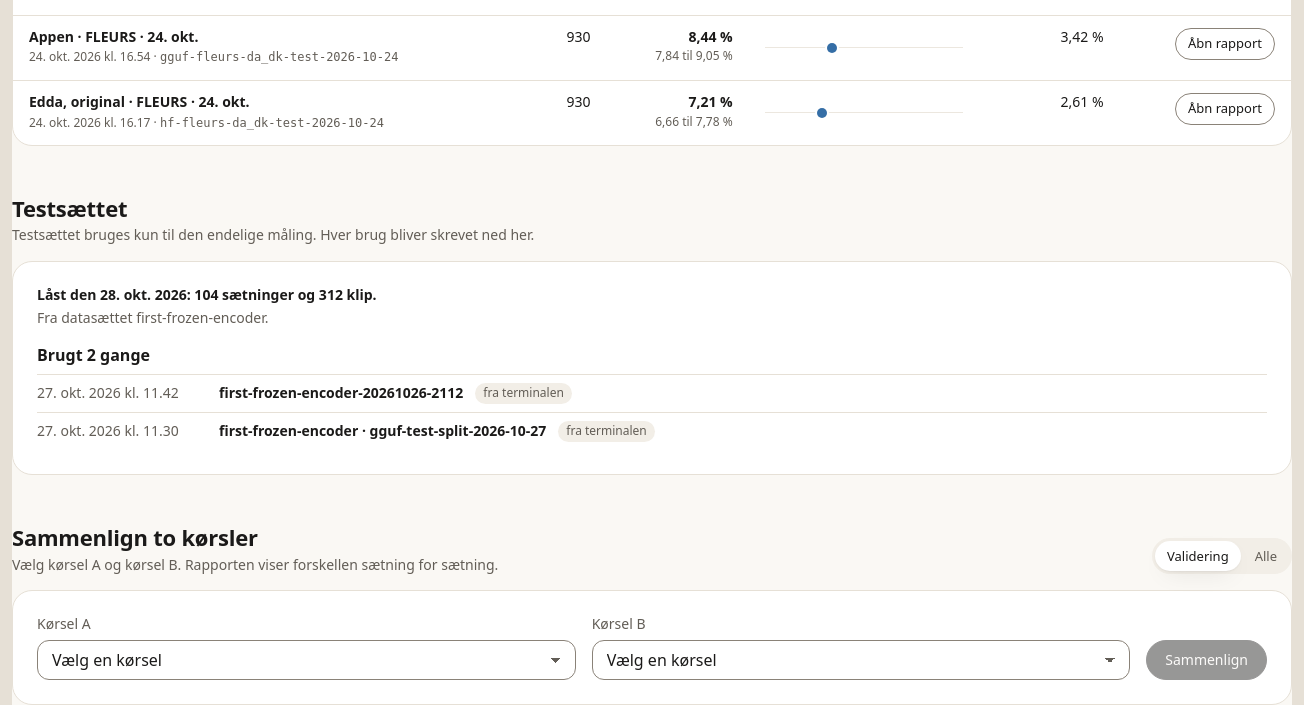
Test: the evaluations › warns when A and B were counted by different normalisers
The width and height of the screenshot is (1304, 705).
(page scrolled)
Step 1. Click the radio button labelled "Alle" → (1266, 556), box [1243,542,1289,572]
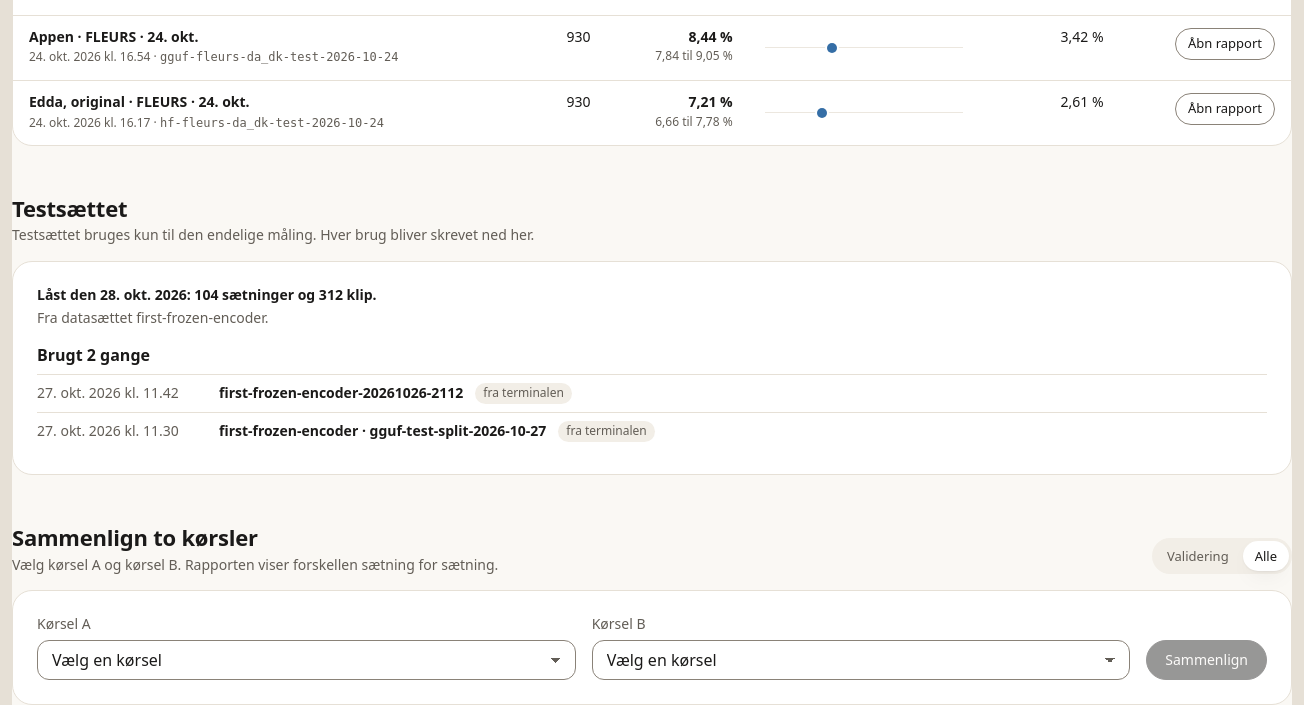
Step 2. Select "Appen · FLEURS · 26. okt. (6,7 %)" in the dropdown labelled "Kørsel A" → (306, 660), box [37,640,576,680]
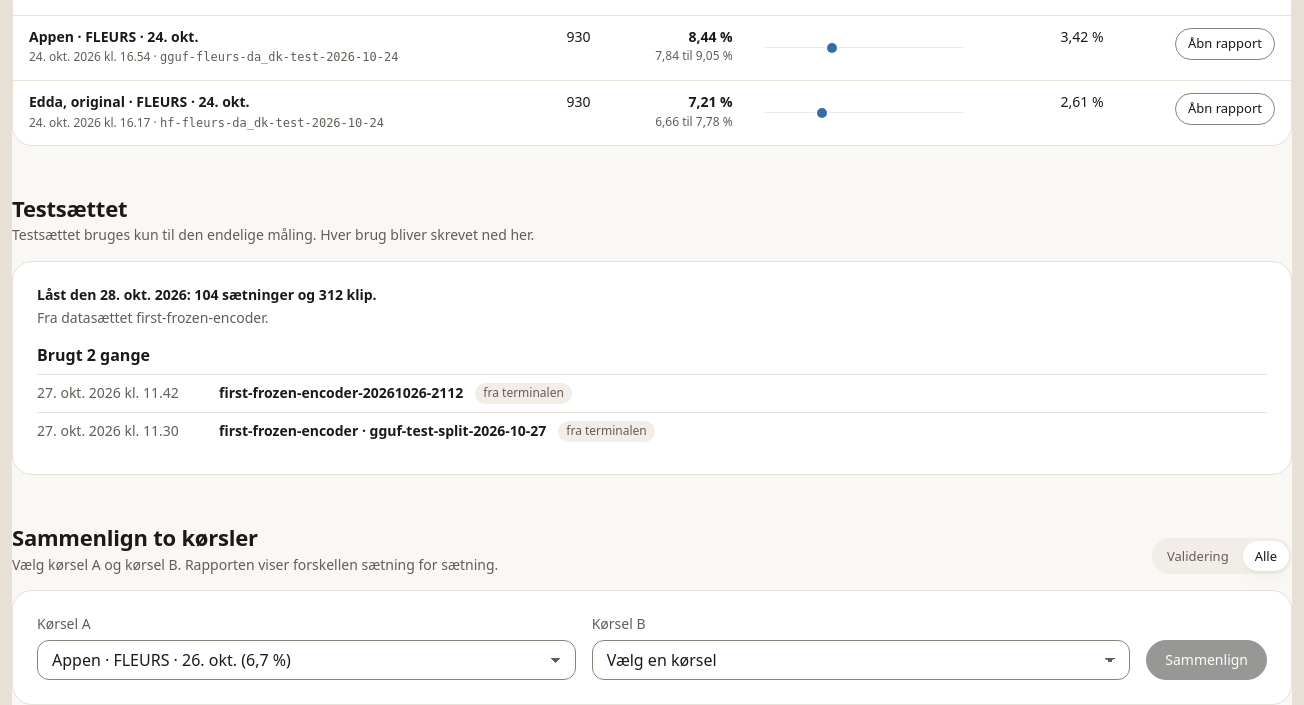
Step 3. Select "Edda, original · FLEURS · 26. okt. (6,3 %)" in the dropdown labelled "Kørsel B" → (861, 660), box [592,640,1130,680]
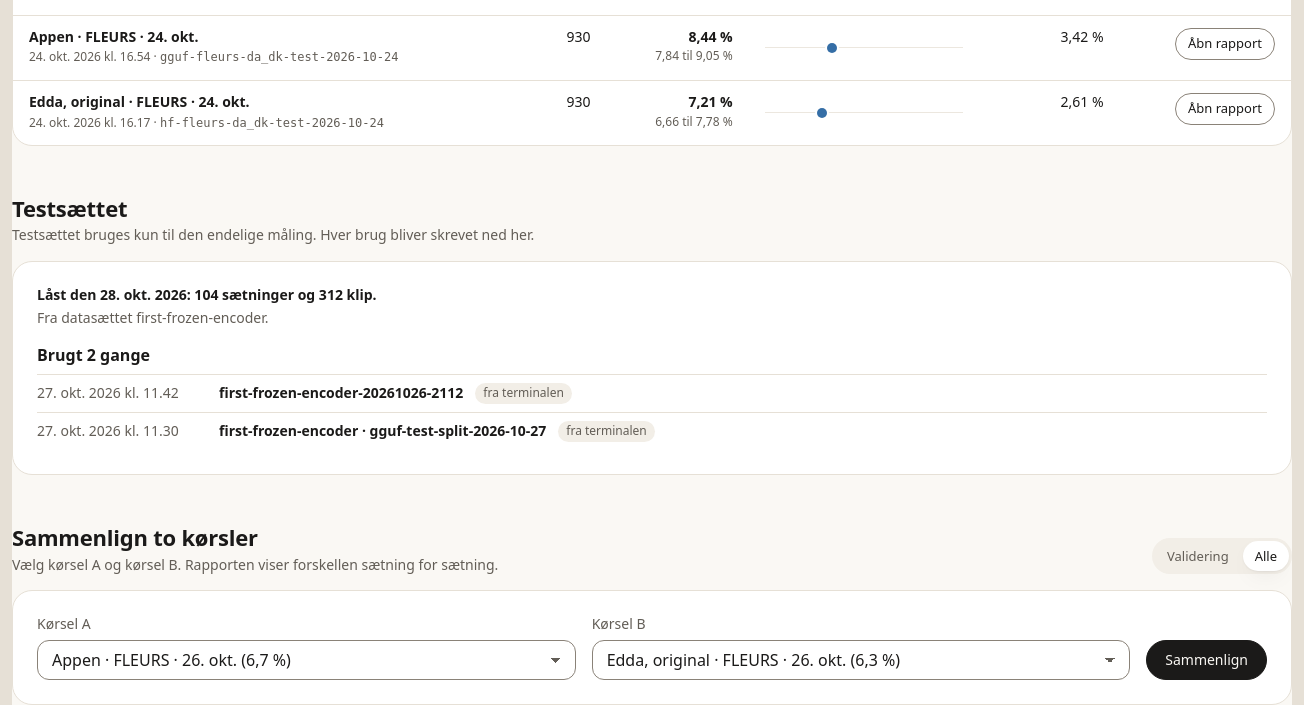
Expected: the text "hver sin normalisering" is not shown
Step 4. Select "Appen · FLEURS · 25. okt. (7,6 %)" in the dropdown labelled "Kørsel B" → (861, 660), box [592,640,1130,680]
(page scrolled)
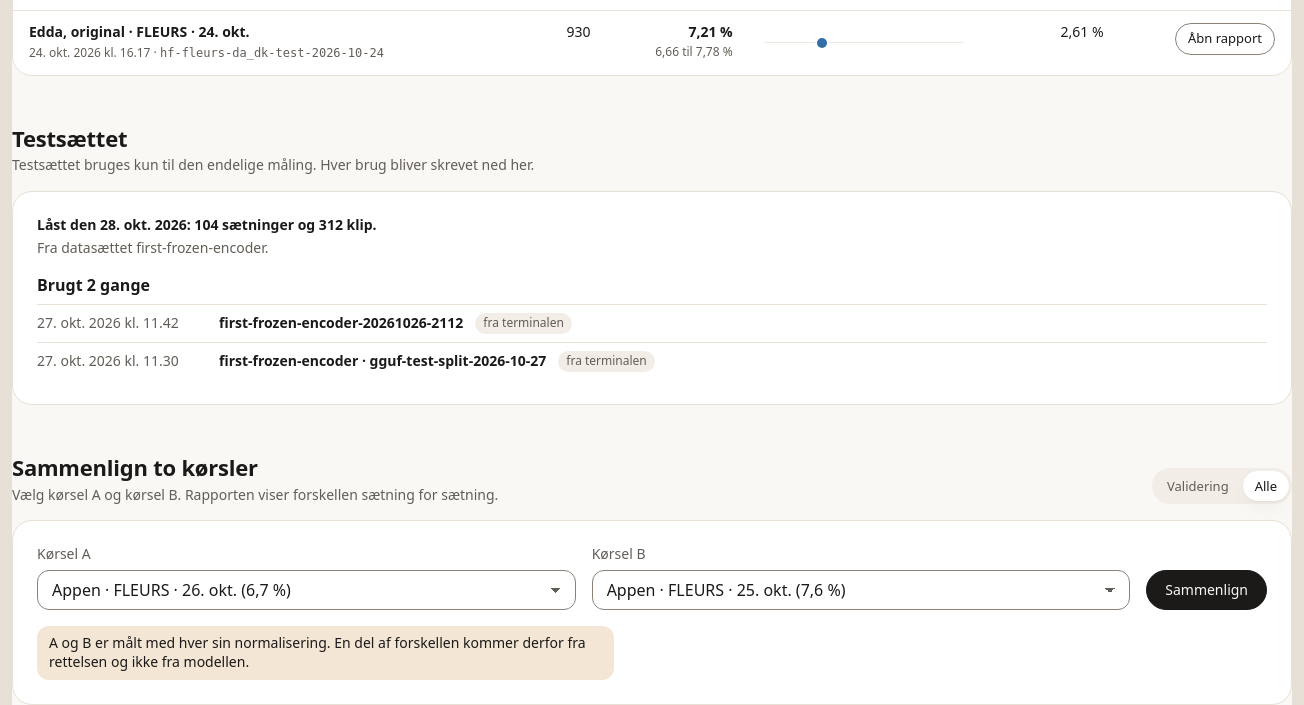
Now the text "A og B er målt med hver sin normalisering. En del af forskellen kommer derfor fra rettelsen og ikke fra modellen." is shown, box [49,633,586,671]
